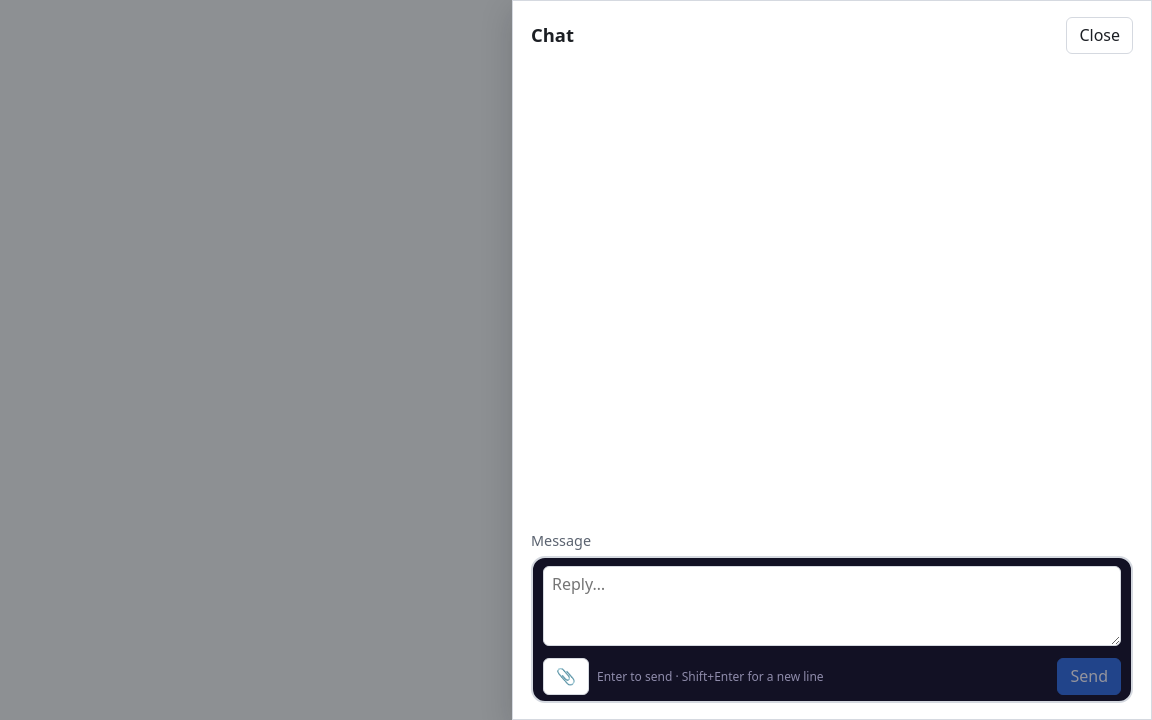
Scenario: shows an already-running message instead of crashing on a 409
Type "hi" into the text box labelled "Message" at (832, 606), box [543,566,1121,646]
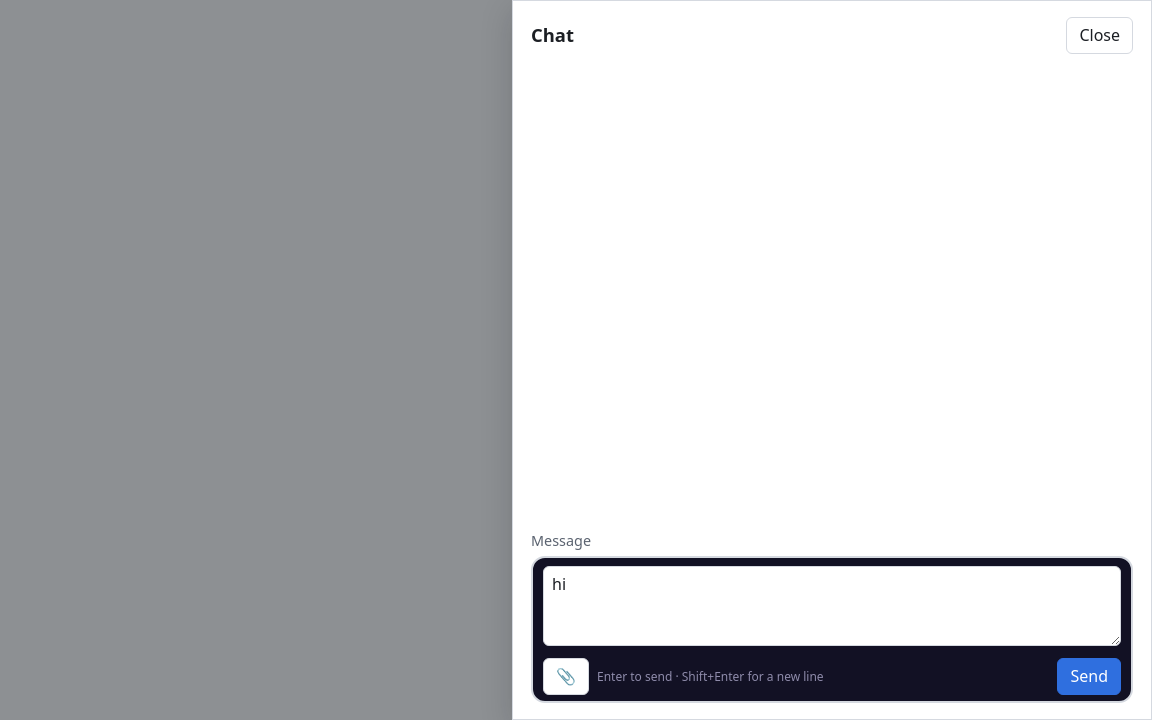
Click the button "Send" at (1089, 676), box [1058,658,1121,695]
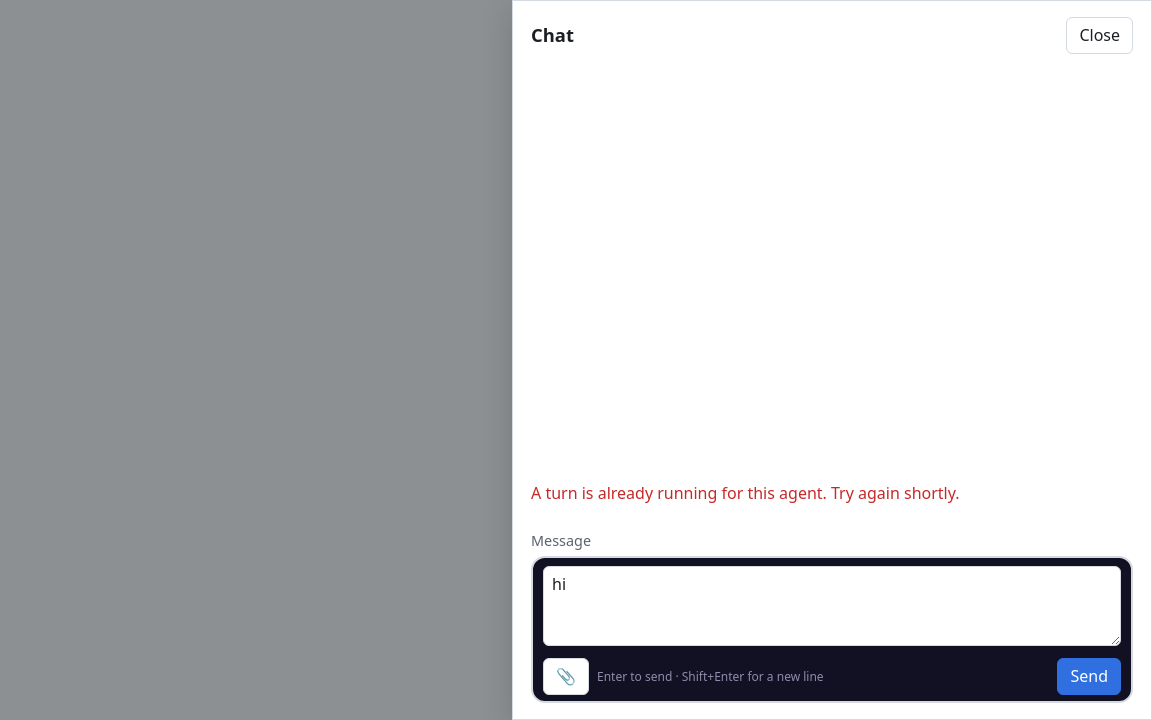
Expected: the message shows "already running", [531,482,960,504]
